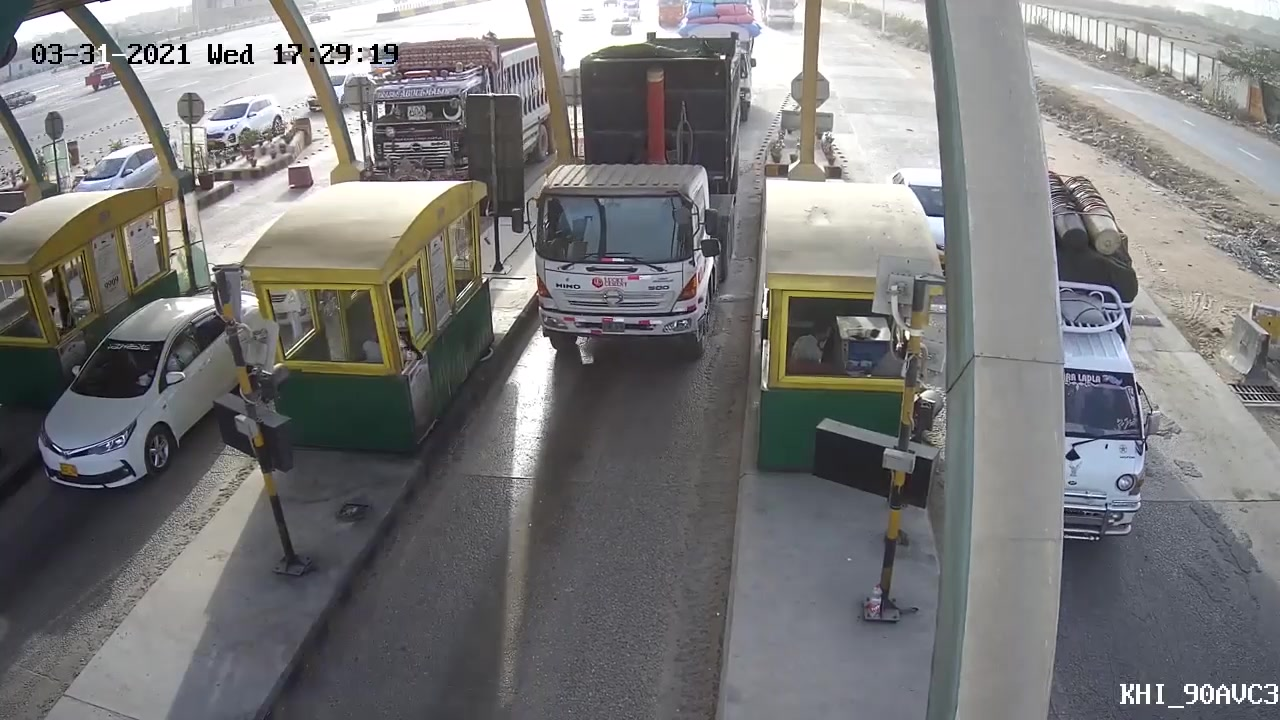F6: (531, 29, 749, 360)
